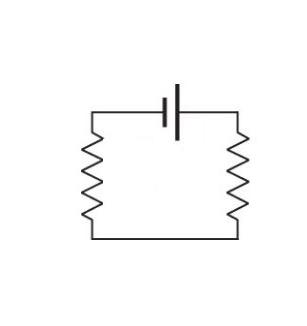resistor: (69, 118, 111, 230), (218, 122, 260, 221)
